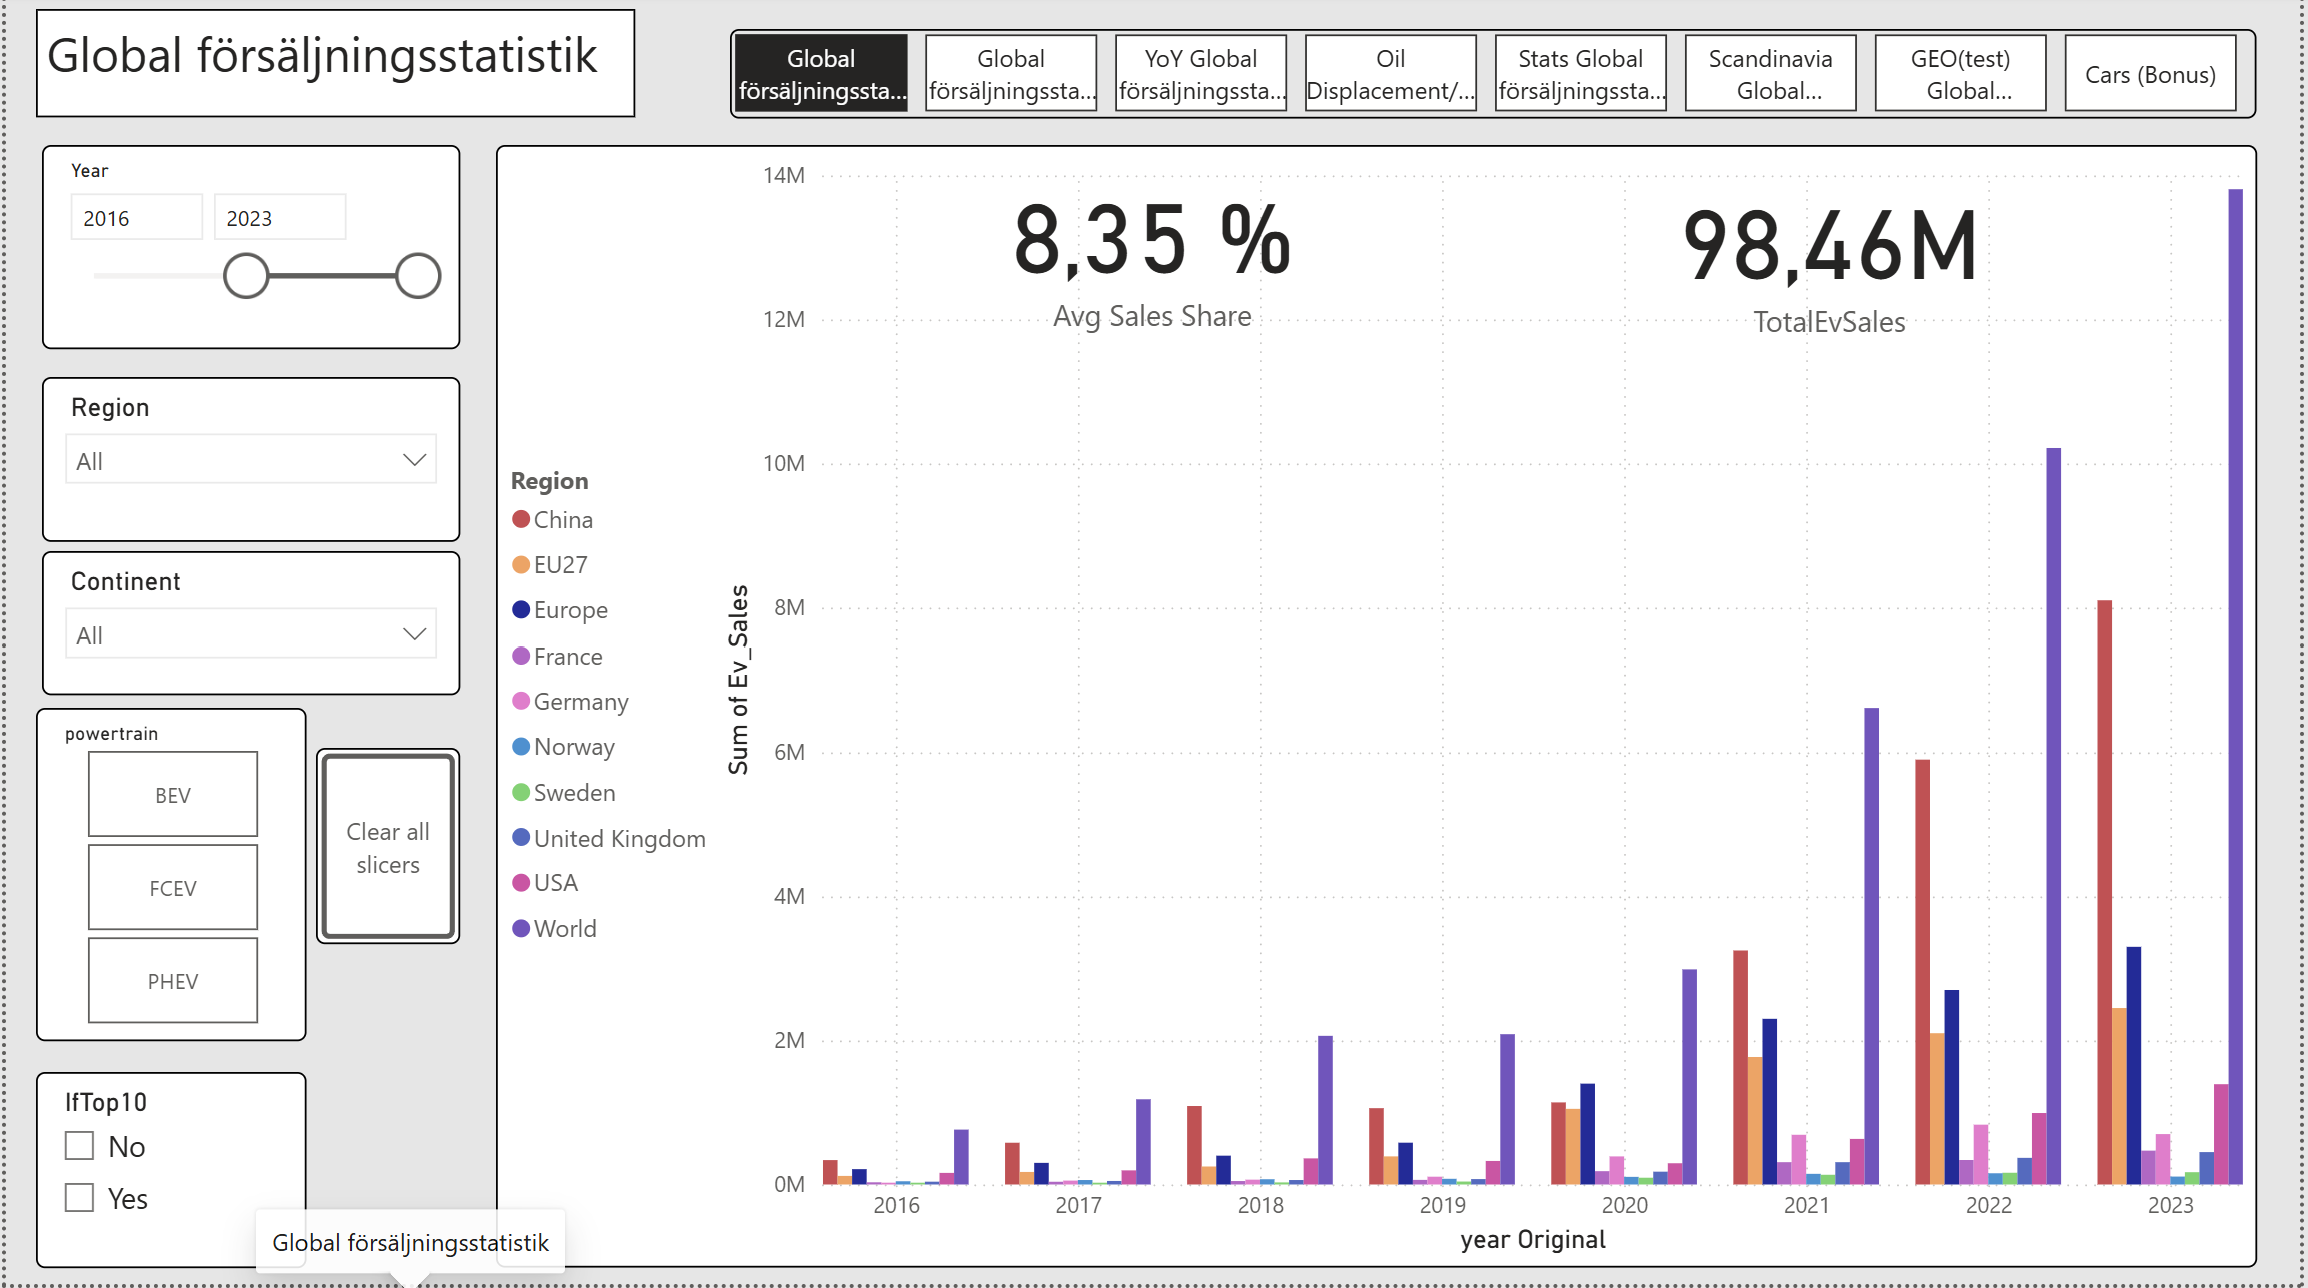

The page's visual inventory and layout, read from the dashboard file:
{"tool":"powerbi","page":{"name":"Global försäljningsstatistik","canvas":[1280,720],"ordinal":0},"visuals":[{"type":"textbox","box":[17.1,9.2,334.7,60.4],"z":0},{"type":"lineClusteredColumnComboChart","fields":{"Category":["Dim_date.year"],"Series":["Dim region.region"],"Y":["Sum(Fact_EV_Sales.Ev_Sales)"]},"box":[273,85.3,983.2,626.1],"z":1000},{"type":"slicer","fields":{"Values":["Dim region.region"]},"box":[19.7,214,233.6,91.9],"z":2000},{"type":"slicer","fields":{"Values":["Dim_Powertrain.powertrain"]},"box":[16.8,398.6,151.2,185.9],"z":3000},{"type":"slicer","fields":{"Values":["Dim_date.Year"]},"box":[19.7,85.3,233.6,114.2],"z":4000},{"type":"slicer","fields":{"Values":["Dim Region.Kontinent"]},"box":[19.7,311.1,233.6,80.1],"z":5000},{"type":"slicer","fields":{"Values":["Dim Region.IfTop10"]},"box":[16.8,601.3,151.2,109.7],"z":6000},{"type":"card","fields":{"Values":["+Measure.TotalSales"]},"box":[891.3,70.5,254.2,147.8],"z":7000},{"type":"card","fields":{"Values":["+Measure.Avg_Growth_Sales_Share"]},"box":[500.1,70.9,279.6,141.8],"z":8000},{"type":"actionButton","box":[173.6,421,80.6,109.7],"z":9000},{"type":"pageNavigator","box":[404.3,19.7,851.9,49.9],"z":10000}]}

Visuals, with their boxes on the page's 1280x720 design canvas (x1, y1, x2, y2). These are canvas units, not pixel positions in the 2308x1288 screenshot, which may show the page scaled, cropped or inside an application window:
textbox: crop(17, 9, 352, 70)
lineClusteredColumnComboChart - Dim_date.year x Dim region.region: crop(273, 85, 1256, 711)
slicer - Dim region.region: crop(20, 214, 253, 306)
slicer - Dim_Powertrain.powertrain: crop(17, 399, 168, 584)
slicer - Dim_date.Year: crop(20, 85, 253, 200)
slicer - Dim Region.Kontinent: crop(20, 311, 253, 391)
slicer - Dim Region.IfTop10: crop(17, 601, 168, 711)
card - +Measure.TotalSales: crop(891, 70, 1146, 218)
card - +Measure.Avg_Growth_Sales_Share: crop(500, 71, 780, 213)
actionButton: crop(174, 421, 254, 531)
pageNavigator: crop(404, 20, 1256, 70)
